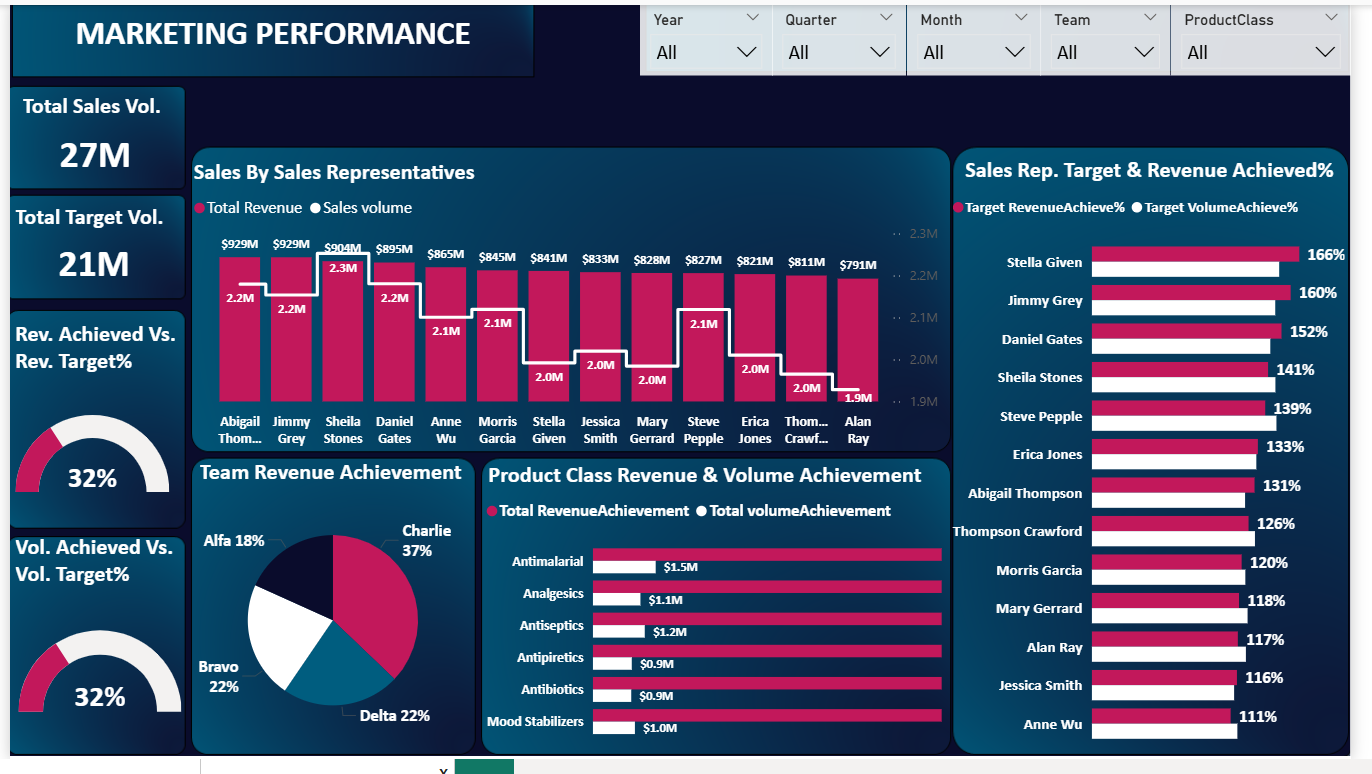

The dashboard page shown, as its layout file describes it:
{"tool":"powerbi","page":{"name":"Marketing Performance","canvas":[1280,720],"ordinal":1},"visuals":[{"type":"lineClusteredColumnComboChart","fields":{"Category":["DimEmployees.Name"],"Y":["All measures.Total Revenue"],"Y2":["All measures.Sales volume"]},"box":[169.3,172,724,257.4],"z":0},{"type":"clusteredBarChart","fields":{"Category":["DimEmployees.Name"],"Y":["All measures.Target RevenueAchievement%","All measures.Target VolumeAchievement%"]},"box":[894.2,171.4,385.9,548.6],"z":1000},{"type":"pieChart","fields":{"Category":["DimEmployees.Team"],"Y":["All measures.Total RevenueAchievement"]},"box":[169.3,461.1,278,251.9],"z":2000},{"type":"clusteredBarChart","fields":{"Category":["DimProducts.ProductClass"],"Y":["All measures.Total RevenueAchievement","All measures.Total volumeAchievement"]},"box":[449,460.8,446.4,252.7],"z":3000},{"type":"slicer","fields":{"Values":["DimProducts.ProductClass"]},"box":[1108,0,172,67.4],"z":4000},{"type":"slicer","fields":{"Values":["DimEmployees.Team"]},"box":[984.1,0,123.9,67.4],"z":5000},{"type":"slicer","fields":{"Values":["Calendar.Date.Variation.Date Hierarchy.Year"]},"box":[601.5,0,126.6,67.4],"z":6000},{"type":"slicer","fields":{"Values":["Calendar.Date.Variation.Date Hierarchy.Quarter"]},"box":[728.1,0,128,67.4],"z":7000},{"type":"slicer","fields":{"Values":["Calendar.Date.Variation.Date Hierarchy.Month"]},"box":[856.1,0,128,67.4],"z":8000},{"type":"card","fields":{"Values":["All measures.Sales volume"]},"box":[5.2,108.7,150.5,62.8],"z":11000},{"type":"card","fields":{"Values":["All measures.Target volume"]},"box":[7.9,214.7,145.3,58.9],"z":12000},{"type":"textbox","box":[0,1.4,509.8,54.7],"z":13000},{"type":"textbox","box":[169.9,139.7,325.4,41.8],"z":14000},{"type":"textbox","box":[176.2,426.7,264.3,41.3],"z":15000},{"type":"textbox","box":[902.9,139,377.1,42.7],"z":16000},{"type":"textbox","box":[447.3,429.4,450,43],"z":17000},{"type":"textbox","box":[7.2,77.8,161.3,41.8],"z":18000},{"type":"textbox","box":[0,295.2,168.5,92.2],"z":19000},{"type":"textbox","box":[0,182.9,168.5,43.2],"z":20000},{"type":"textbox","box":[0,498.8,168.9,68.1],"z":21000},{"type":"gauge","fields":{"Y":["All measures.REV.achieved vs REV.Target %"]},"box":[0,362.9,157,131],"z":22000},{"type":"gauge","fields":{"Y":["All measures.VolumeAchieved vs VolumeTarget"]},"box":[2.9,551.5,165.6,168.5],"z":23000}]}

Visuals, with their boxes in screenshot pixels (x1, y1, x2, y2), scaled from the page's 1280x720 canvas onto the 1372x774 screenshot:
lineClusteredColumnComboChart - DimEmployees.Name x All measures.Total Revenue: 181, 185, 958, 462
clusteredBarChart - DimEmployees.Name x All measures.Target RevenueAchievement%: 958, 184, 1371, 773
pieChart - DimEmployees.Team x All measures.Total RevenueAchievement: 181, 496, 479, 766
clusteredBarChart - DimProducts.ProductClass x All measures.Total RevenueAchievement: 481, 495, 960, 767
slicer - DimProducts.ProductClass: 1188, 0, 1371, 72
slicer - DimEmployees.Team: 1055, 0, 1188, 72
slicer - Calendar.Date.Variation.Date Hierarchy.Year: 645, 0, 780, 72
slicer - Calendar.Date.Variation.Date Hierarchy.Quarter: 780, 0, 918, 72
slicer - Calendar.Date.Variation.Date Hierarchy.Month: 918, 0, 1055, 72
card - All measures.Sales volume: 6, 117, 167, 184
card - All measures.Target volume: 8, 231, 164, 294
textbox: 0, 2, 546, 60
textbox: 182, 150, 531, 195
textbox: 189, 459, 472, 503
textbox: 968, 149, 1371, 195
textbox: 479, 462, 962, 508
textbox: 8, 84, 181, 129
textbox: 0, 317, 181, 416
textbox: 0, 197, 181, 243
textbox: 0, 536, 181, 609
gauge - All measures.REV.achieved vs REV.Target %: 0, 390, 168, 531
gauge - All measures.VolumeAchieved vs VolumeTarget: 3, 593, 181, 773
